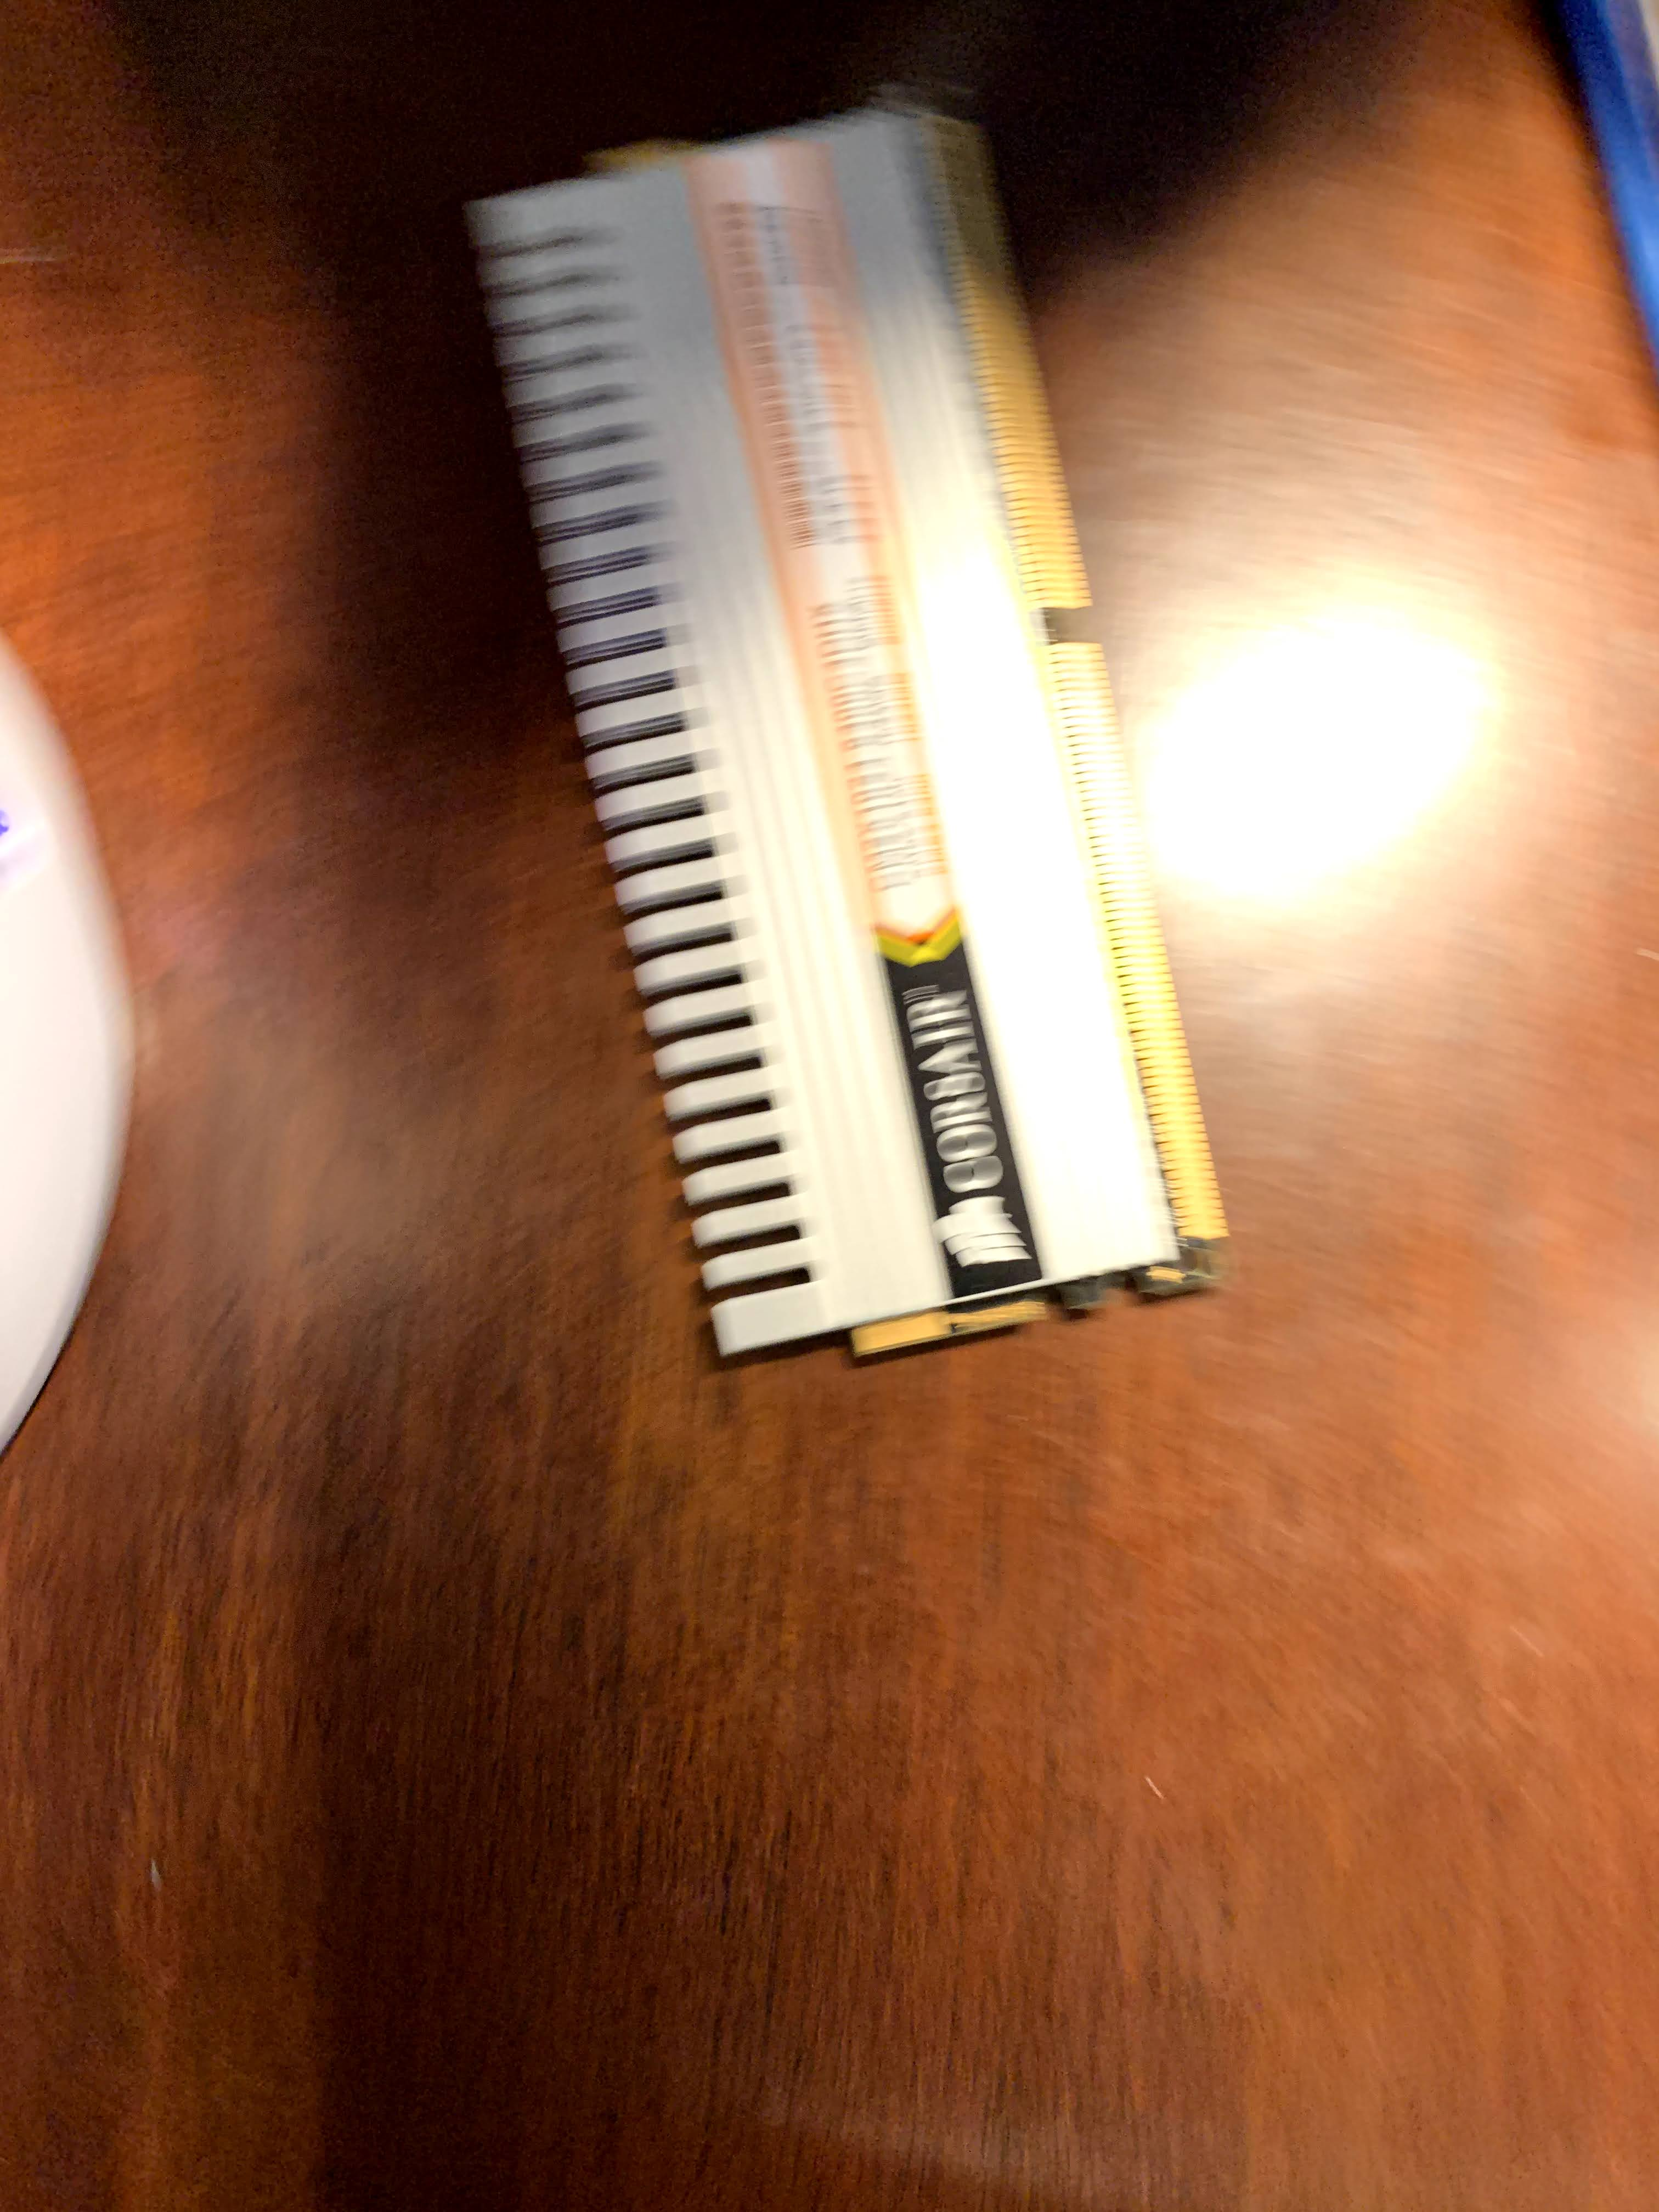Space-debris-medium: (408, 106, 1279, 1379)
